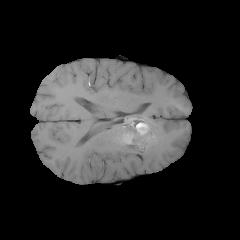glioma: (111, 117, 163, 158)
